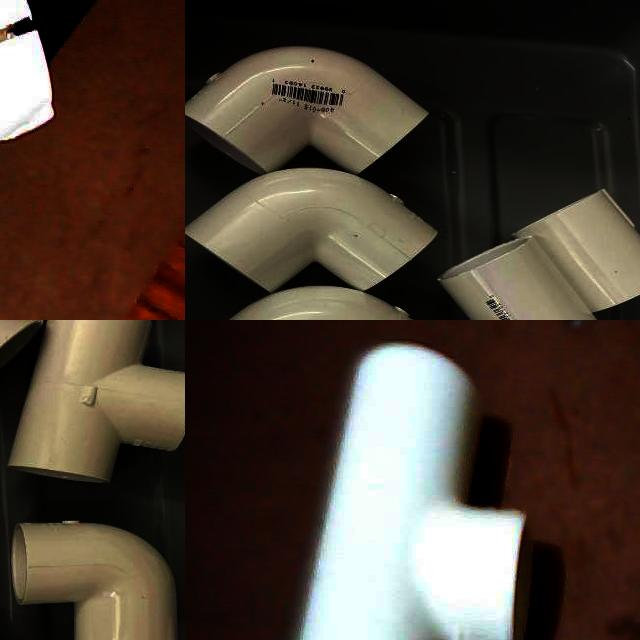Defective: (0, 14, 35, 86)
L Joint: (185, 168, 438, 294), (185, 46, 428, 177), (11, 520, 179, 640)
T Joint: (291, 341, 533, 640), (7, 320, 185, 486)
